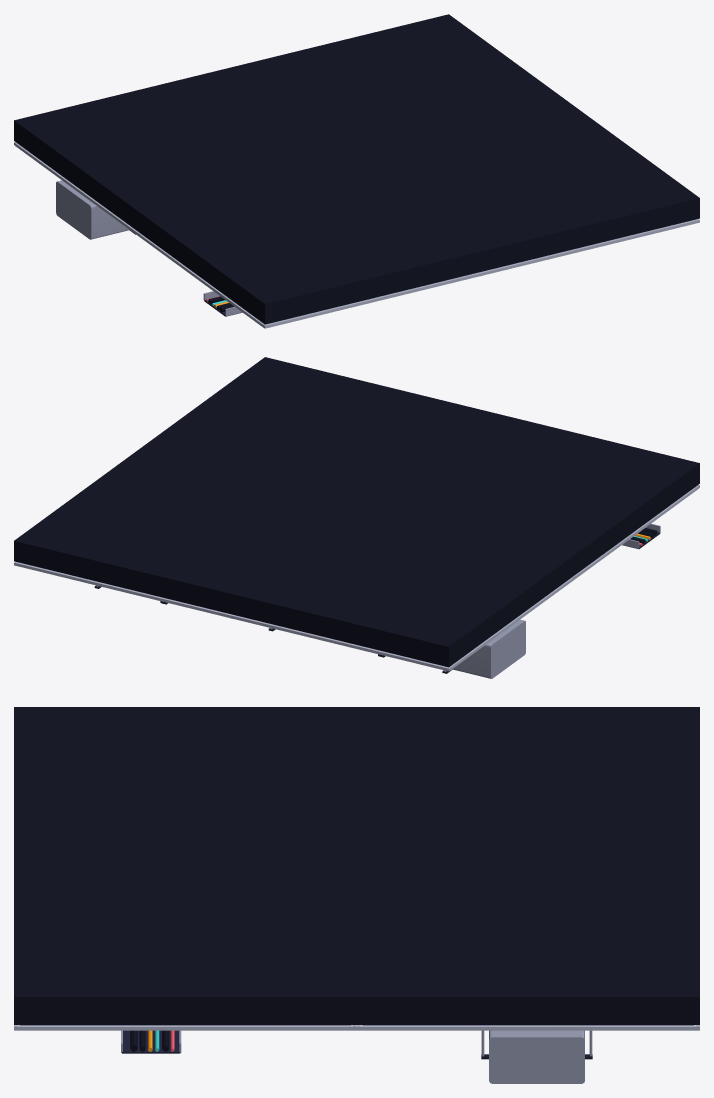
The model's file is ceiling_duct.glb.
3 renders of one model, top to bottom at view 1: azimuth 30°, elevation 25°; view 2: azimuth 150°, elevation 25°; view 3: azimuth 270°, elevation 25°, orthographic. The views are drawn at different scales.
Visible parts, largest first — view 1: Body; view 2: Body; view 3: Body.
Boxes of the visible parts, x1,y1,x2,y2 form: Body: (14, 14, 699, 328); Body: (14, 357, 699, 678); Body: (14, 707, 699, 1083).
Bounding box in the file's own units: 4 × 0.592 × 4.
